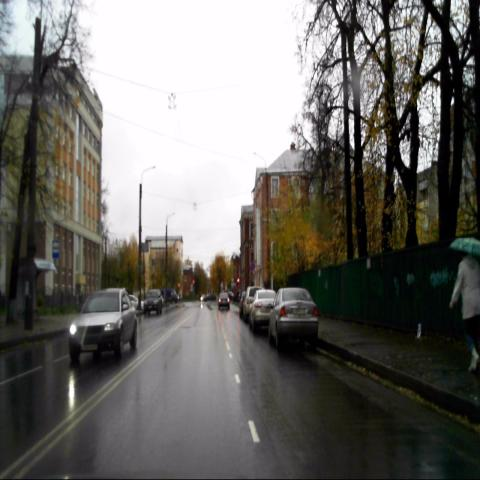5_16: (52, 240, 59, 258)
